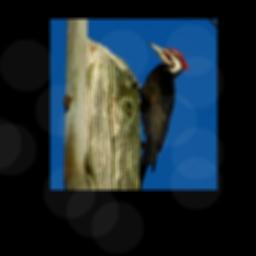Woodpecker: (129, 42, 193, 187)
